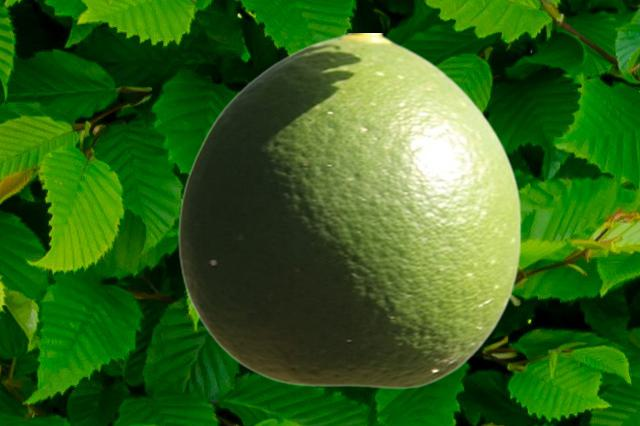dalandan: (177, 33, 521, 388)
